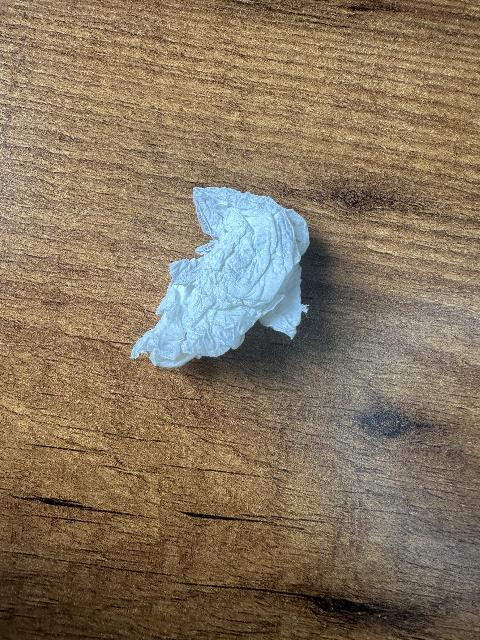Kagit: (127, 183, 324, 372)
